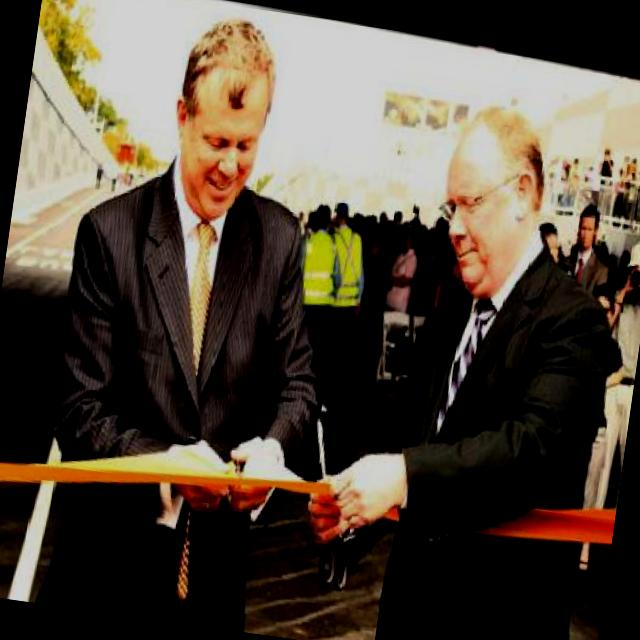Person: (24, 0, 373, 628), (290, 83, 640, 640), (89, 78, 640, 295), (330, 221, 410, 416), (585, 235, 640, 512), (312, 200, 378, 412), (284, 197, 356, 388), (561, 200, 626, 308), (385, 221, 428, 313), (424, 212, 462, 314), (406, 220, 440, 316), (619, 153, 640, 220), (611, 165, 633, 226), (598, 144, 620, 186)
